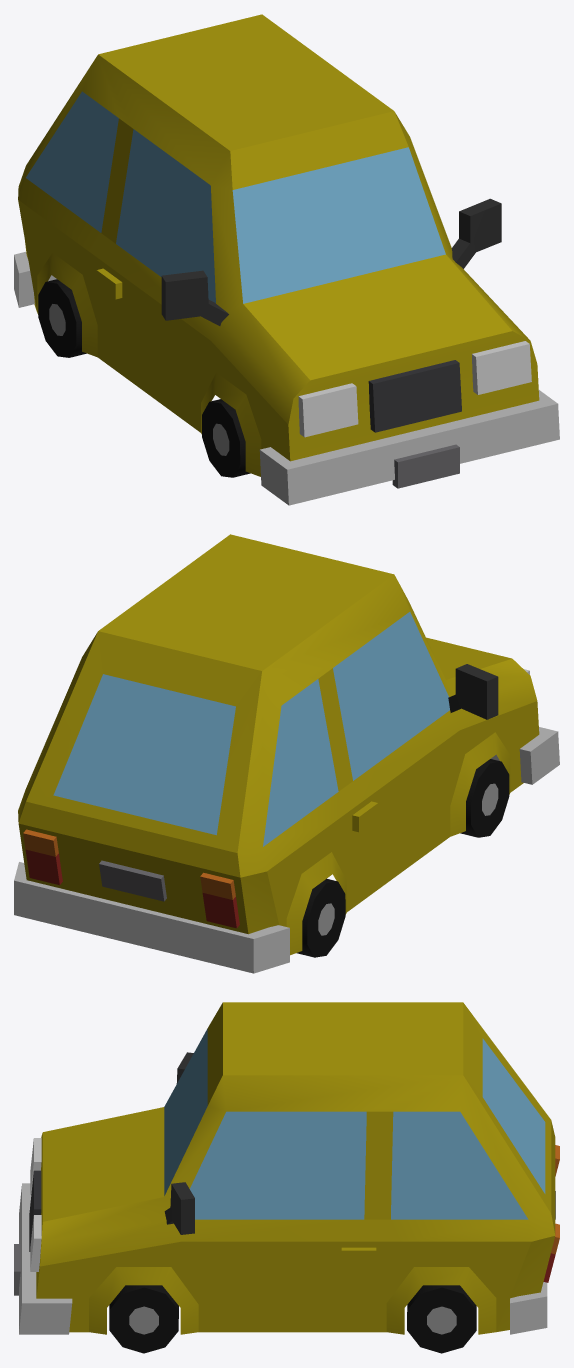
The model's file is Car_04_yellow.fbx.
3 renders of one model, top to bottom at view 1: azimuth 30°, elevation 25°; view 2: azimuth 150°, elevation 25°; view 3: azimuth 270°, elevation 25°, orthographic. The views are drawn at different scales.
Visible parts, largest first — view 1: Car_04_yellow; view 2: Car_04_yellow; view 3: Car_04_yellow.
Boxes of the visible parts, bbox=[...] form: Car_04_yellow: bbox=[14, 14, 559, 505]; Car_04_yellow: bbox=[14, 534, 559, 973]; Car_04_yellow: bbox=[14, 1002, 559, 1353].
Bounding box in the file's own units: 60.07 × 48.41 × 93.91.
